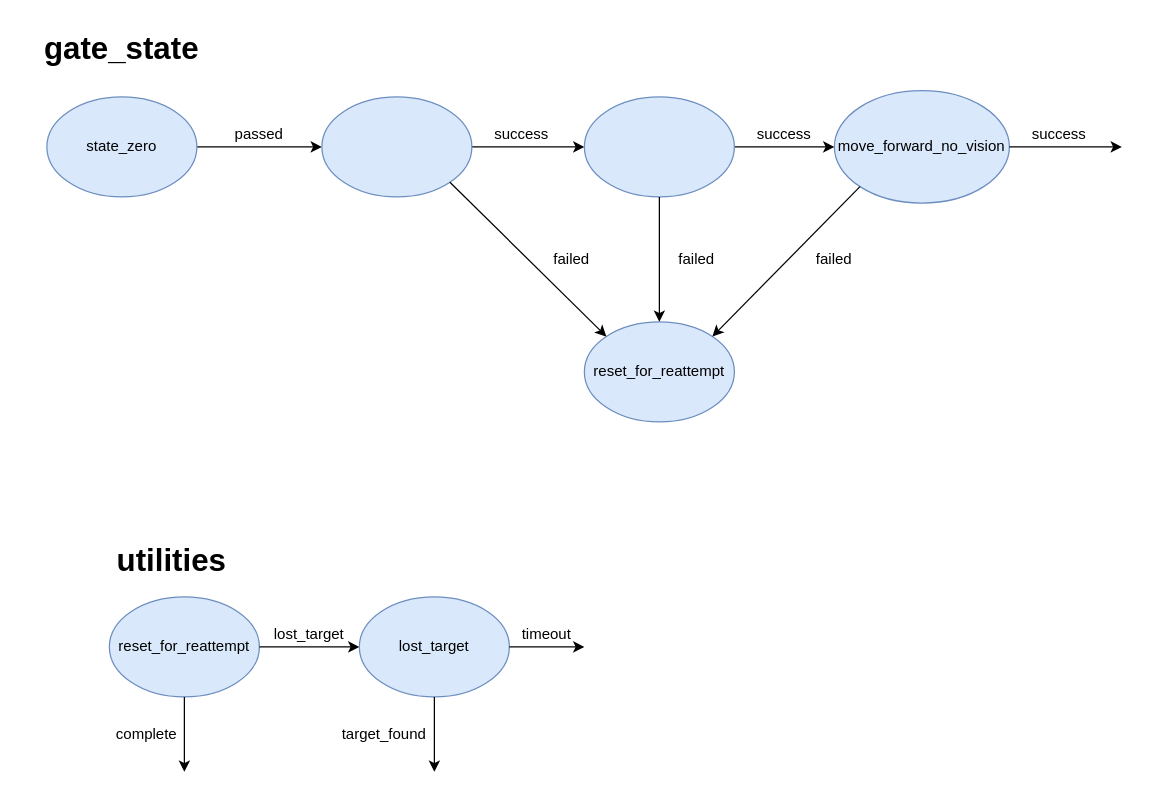
Image size: 1154x804. Some labels were removed from this diagram. Here are the shapes that lost their labels. From the top down, the centre of each, then its label:
At point (396, 146): "position_sub".
At point (658, 146): "move_forward_vision".
